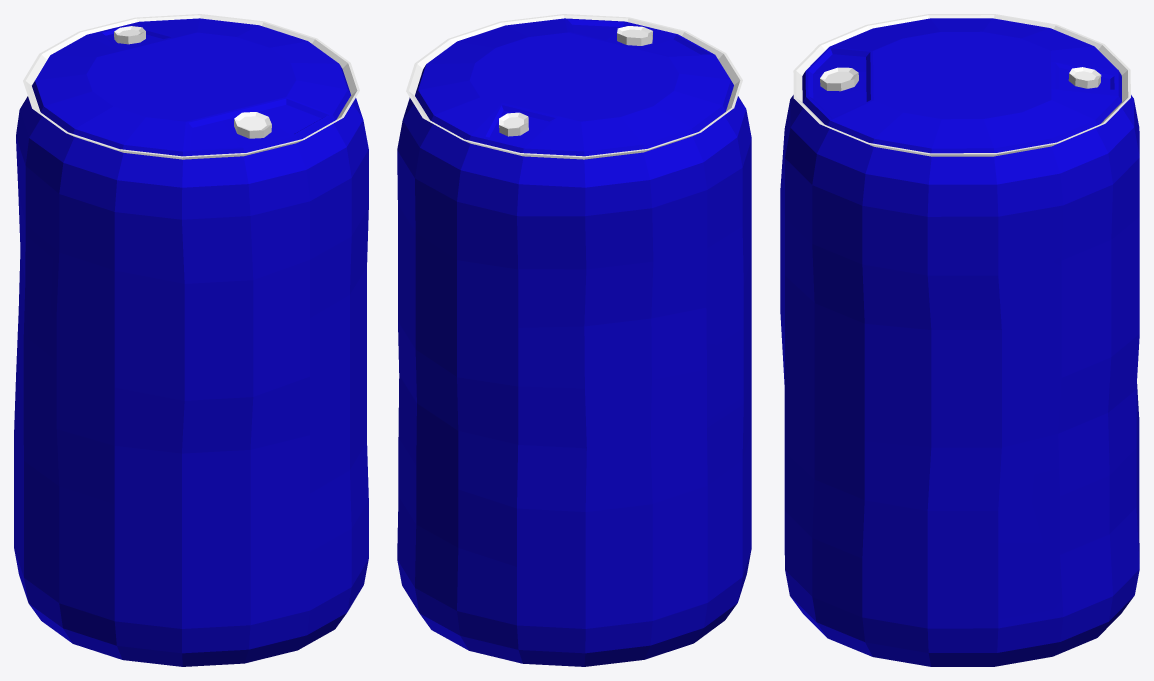
The model's file is SM_Small_Cistern.glb.
The picture shows the model from 3 angles, left to right: view 1: azimuth 30°, elevation 25°; view 2: azimuth 150°, elevation 25°; view 3: azimuth 270°, elevation 25°; orthographic projection.
Visible parts, largest first — view 1: SM_Small_Cistern; view 2: SM_Small_Cistern; view 3: SM_Small_Cistern.
Boxes of the visible parts, x1,y1,x2,y2 form: SM_Small_Cistern: [14, 14, 368, 666]; SM_Small_Cistern: [397, 14, 751, 666]; SM_Small_Cistern: [780, 14, 1139, 666].
Bounding box in the file's own units: 0.4855 × 0.8214 × 0.497.
